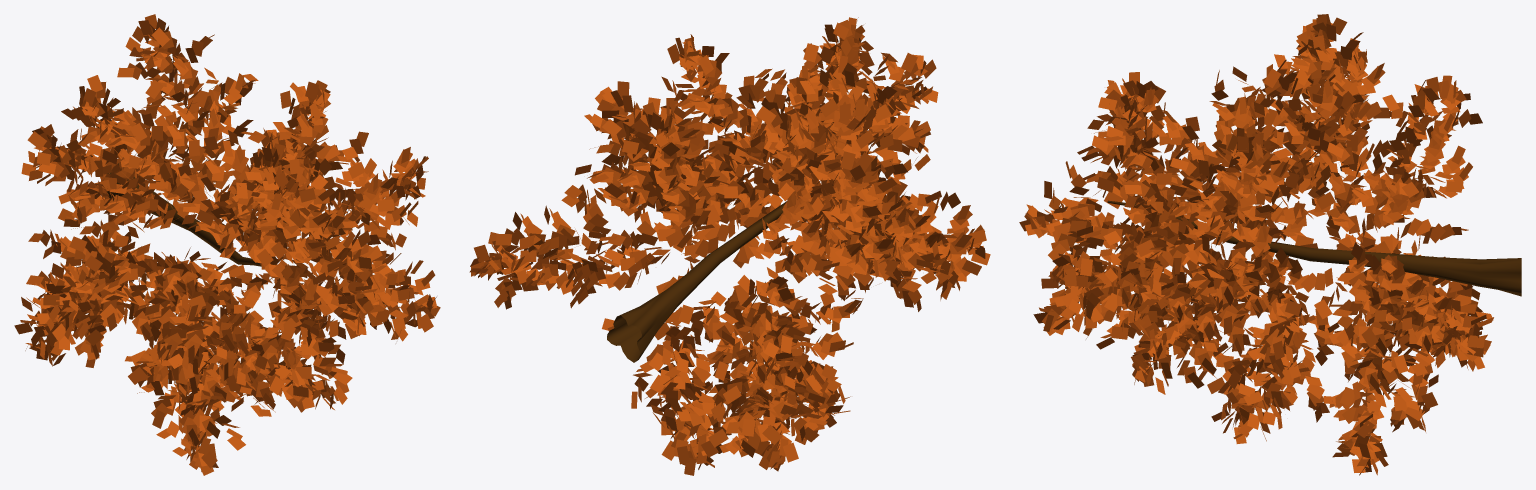
Rendered from elm.fbx.
3 renders of one model, left to right at view 1: azimuth 30°, elevation 25°; view 2: azimuth 150°, elevation 25°; view 3: azimuth 270°, elevation 25°, orthographic. The views are drawn at different scales.
Visible parts, largest first — view 1: Foliage02_Leaves, Foliage02_Trunk; view 2: Foliage02_Leaves, Foliage02_Trunk; view 3: Foliage02_Leaves, Foliage02_Trunk.
Boxes of the visible parts, box(x1,y1,x2,y2) form: Foliage02_Leaves: box(14, 14, 440, 475); Foliage02_Trunk: box(103, 163, 261, 266); Foliage02_Leaves: box(469, 17, 990, 475); Foliage02_Trunk: box(607, 201, 786, 362); Foliage02_Leaves: box(1019, 14, 1493, 475); Foliage02_Trunk: box(1107, 200, 1521, 296).
Size of the model in its own units: 244 by 229 by 265.
2 materials, 2 textured.
